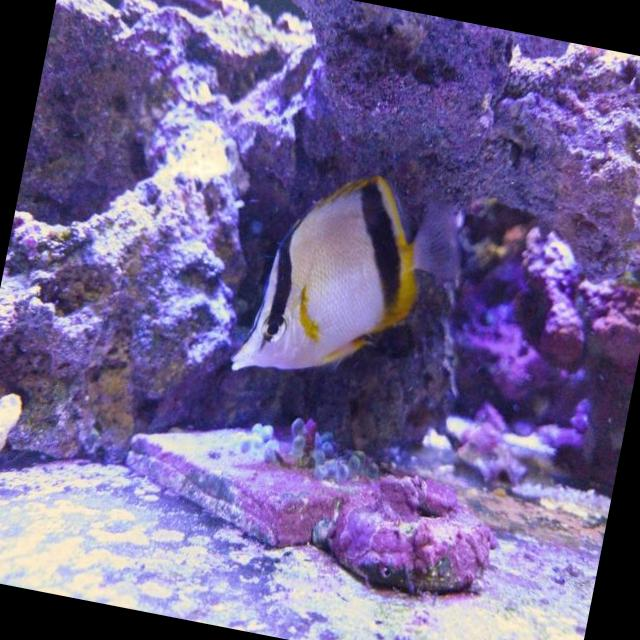ButterflyFish: (224, 150, 466, 420)
